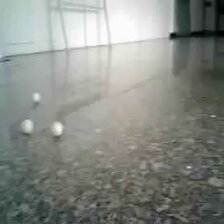w: (50, 122, 64, 137), (20, 118, 33, 133), (33, 93, 41, 101)
